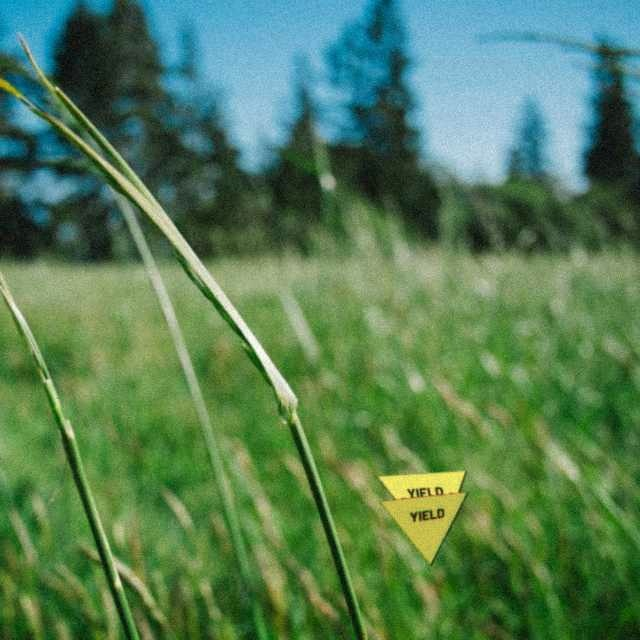YIELD: (376, 470, 467, 553), (378, 491, 469, 566)
